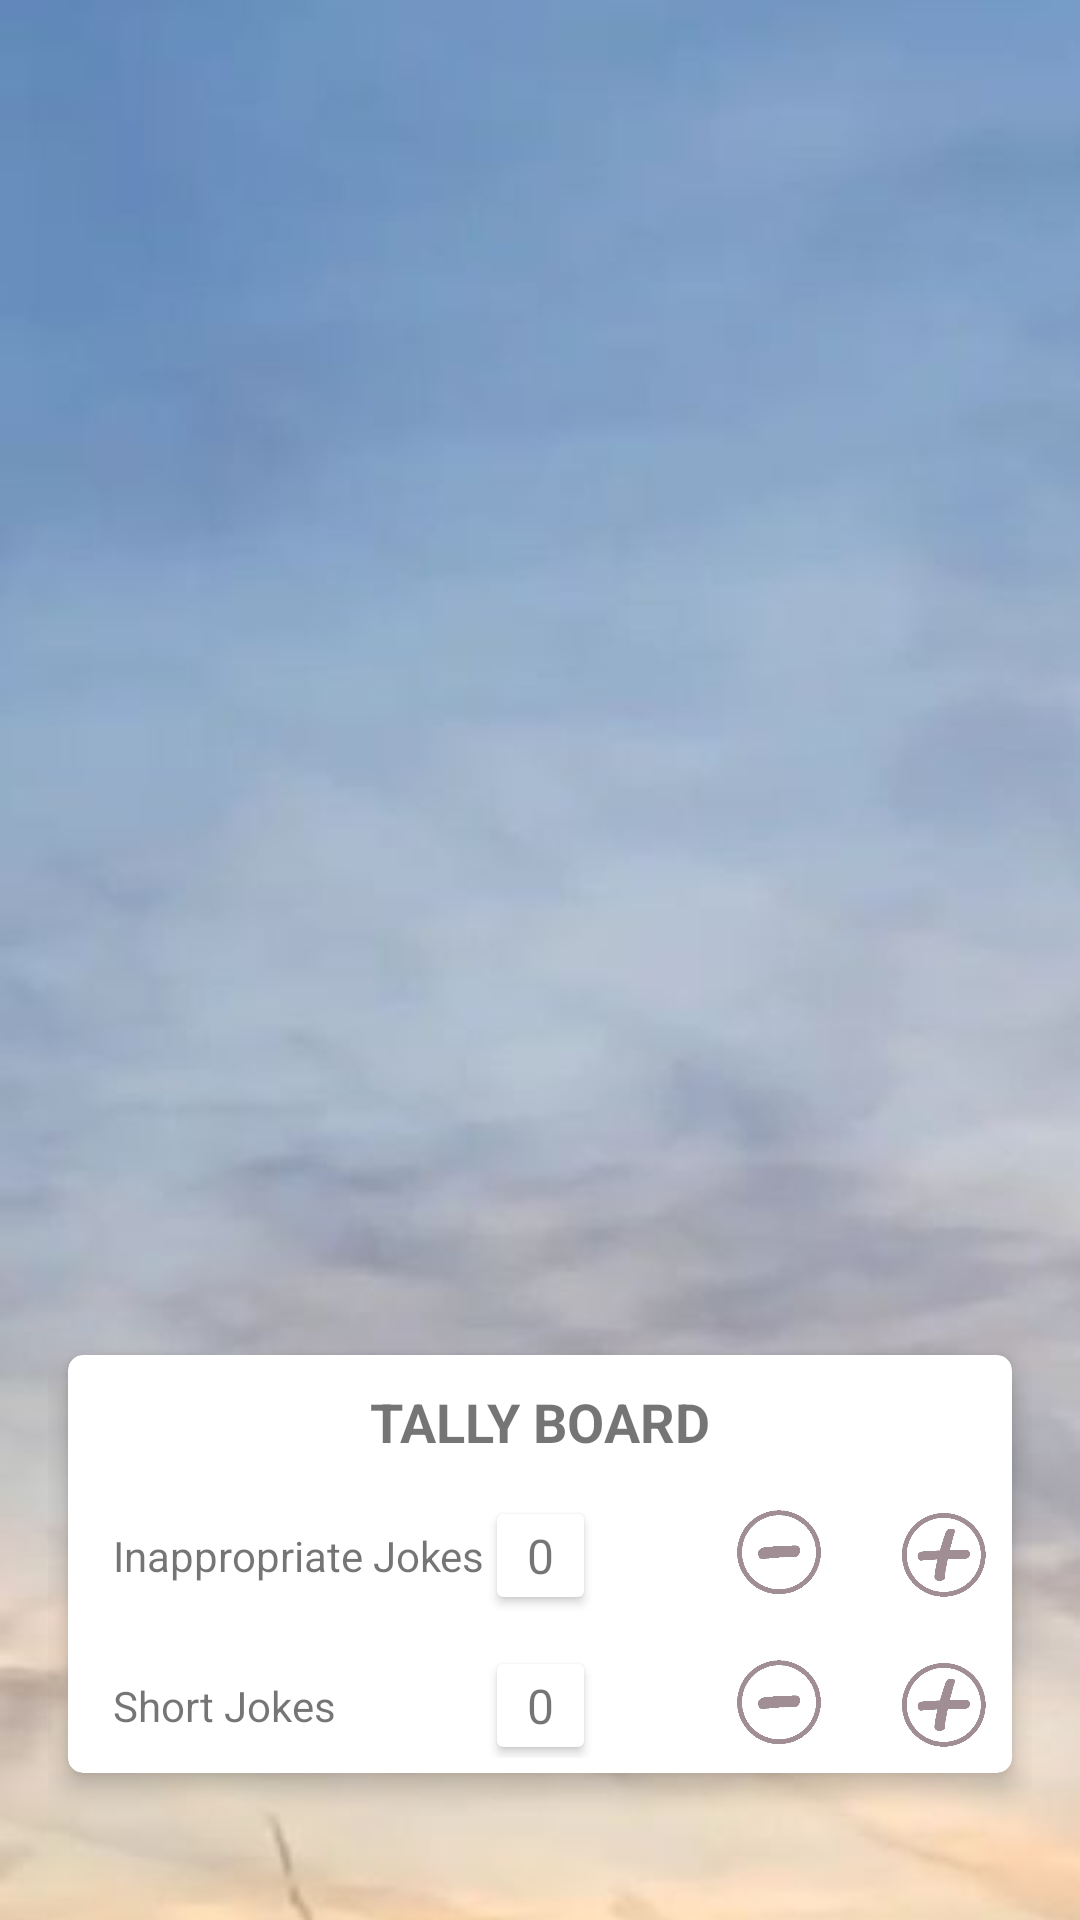

Point at icon controls on the screen. Image size 1080 x 1920, points as (x=x, y=y).
minus sign: (x=779, y=1552), (x=779, y=1702)
plus sign: (x=944, y=1555), (x=944, y=1705)
